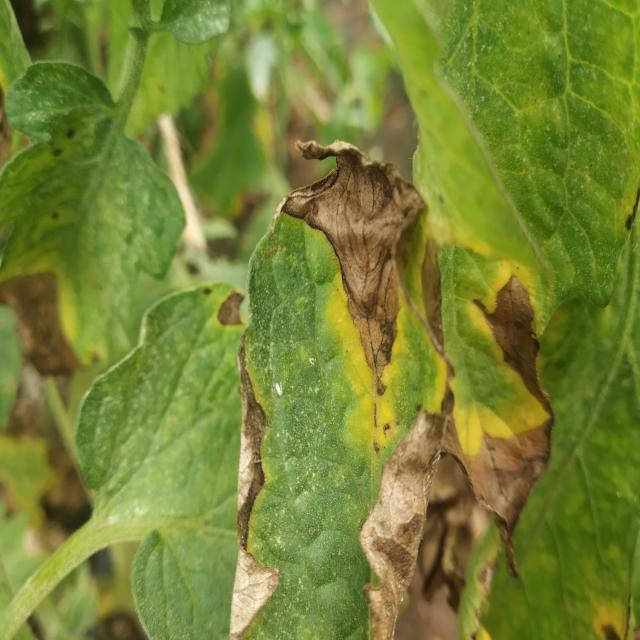Tomato mosaic virus leaf: (224, 135, 456, 640)
